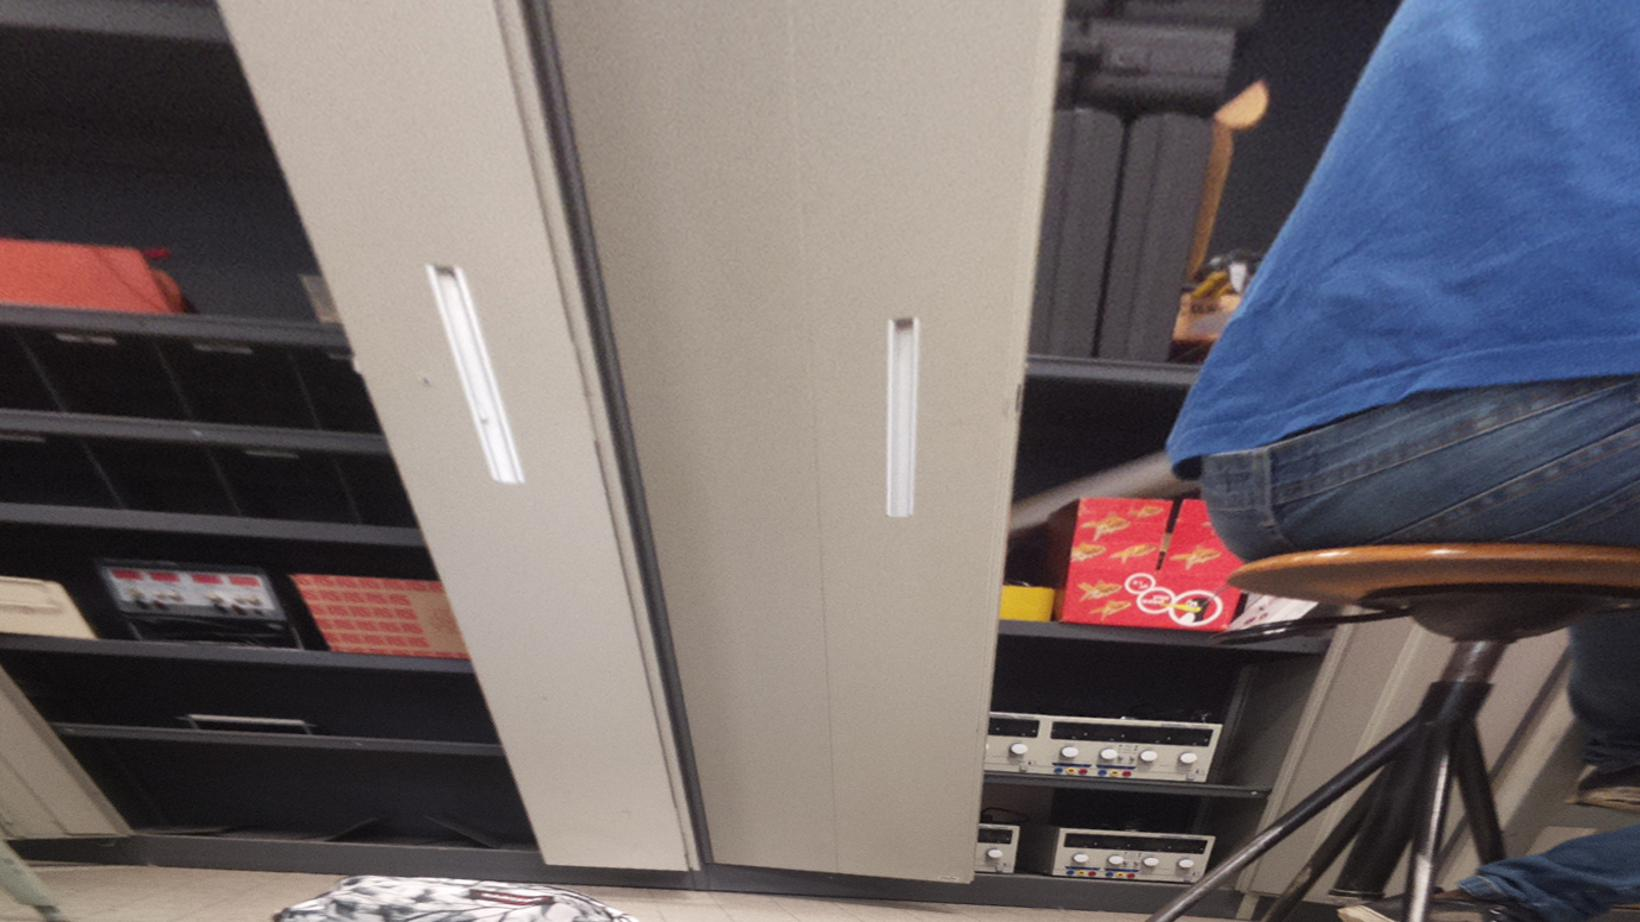big: (277, 870, 649, 922)
